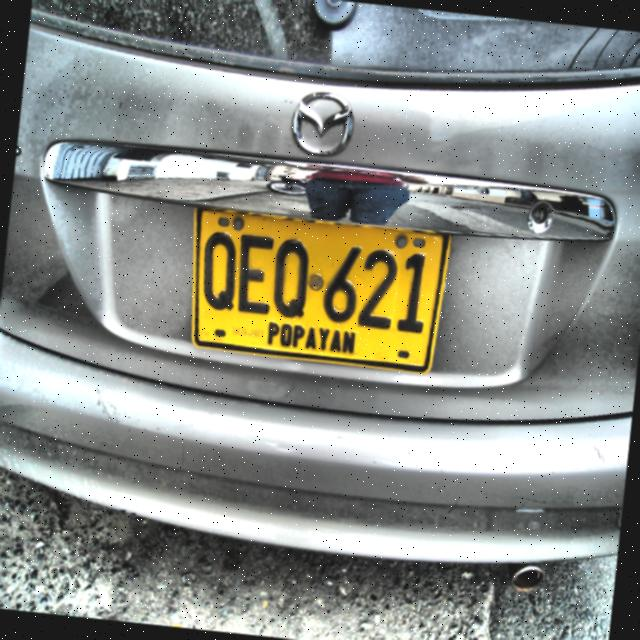1: (395, 249, 432, 336)
2: (355, 243, 399, 331)
6: (320, 239, 364, 325)
E: (237, 232, 274, 314)
Q: (272, 237, 312, 321), (201, 228, 237, 313)
